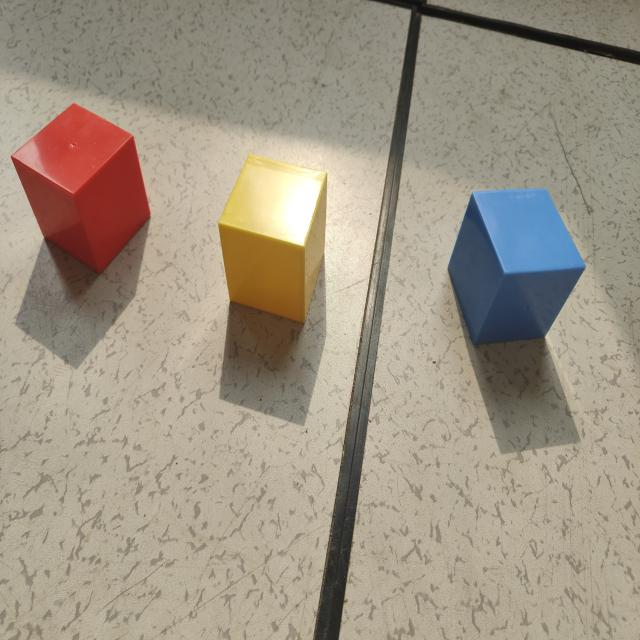blue: (447, 188, 587, 352)
red: (12, 105, 151, 277)
yellow: (218, 156, 328, 328)
